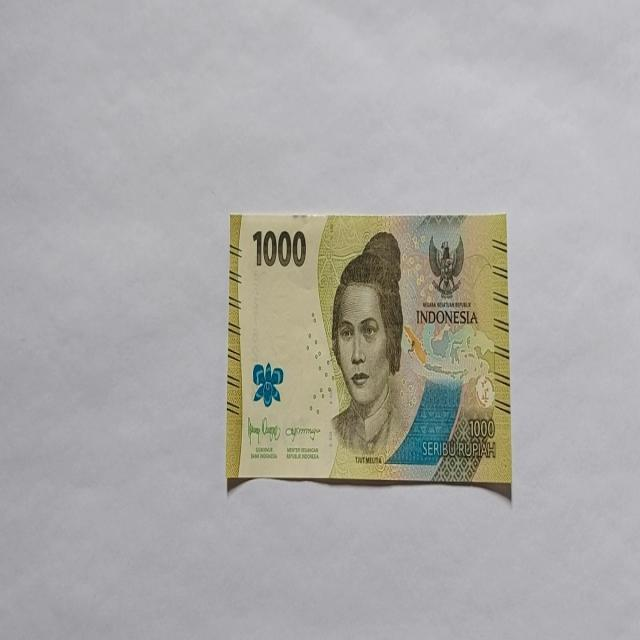seribu rupiah kertas: (225, 210, 510, 496)
